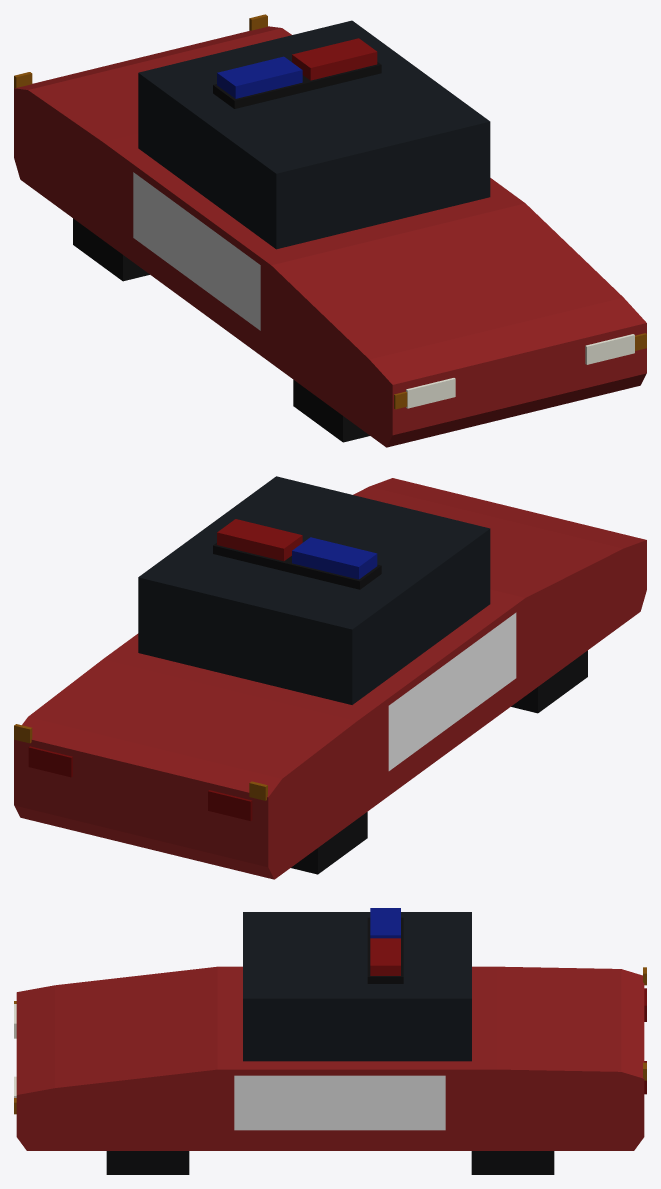
3 renders of one model, top to bottom at view 1: azimuth 30°, elevation 25°; view 2: azimuth 150°, elevation 25°; view 3: azimuth 270°, elevation 25°, orthographic. The views are drawn at different scales.
Visible parts, largest first — view 1: shell, cabin, doors, wheels, lightbar_blue, lightbar_red, lightbar_base, headlight_L, headlight_R; view 2: shell, cabin, doors, wheels, lightbar_blue, lightbar_red, lightbar_base, taillight_L, taillight_R; view 3: shell, cabin, doors, wheels, lightbar_red, lightbar_blue, lightbar_base.
Part boxes in pixels (x1=…): shell: x1=14, y1=26, x2=646, y2=447; cabin: x1=138, y1=20, x2=490, y2=249; doors: x1=133, y1=172, x2=260, y2=330; wheels: x1=73, y1=218, x2=369, y2=442; lightbar_blue: x1=217, y1=56, x2=302, y2=98; lightbar_red: x1=292, y1=38, x2=377, y2=80; lightbar_base: x1=213, y1=62, x2=381, y2=108; headlight_L: x1=585, y1=334, x2=634, y2=364; headlight_R: x1=406, y1=378, x2=455, y2=408; shell: x1=14, y1=478, x2=646, y2=879; cabin: x1=138, y1=476, x2=490, y2=704; doors: x1=388, y1=612, x2=516, y2=770; wheels: x1=291, y1=650, x2=587, y2=874; lightbar_blue: x1=292, y1=537, x2=377, y2=579; lightbar_red: x1=217, y1=519, x2=302, y2=561; lightbar_base: x1=213, y1=543, x2=381, y2=589; taillight_L: x1=28, y1=746, x2=72, y2=777; taillight_R: x1=208, y1=790, x2=252, y2=821; shell: x1=16, y1=966, x2=644, y2=1150; cabin: x1=243, y1=912, x2=471, y2=1061; doors: x1=234, y1=1075, x2=445, y2=1130; wheels: x1=106, y1=1151, x2=554, y2=1174; lightbar_red: x1=370, y1=938, x2=400, y2=975; lightbar_blue: x1=370, y1=908, x2=400, y2=938; lightbar_base: x1=367, y1=917, x2=403, y2=983.
Bounding box in the file's own units: 1.91 × 1.62 × 4.94.
